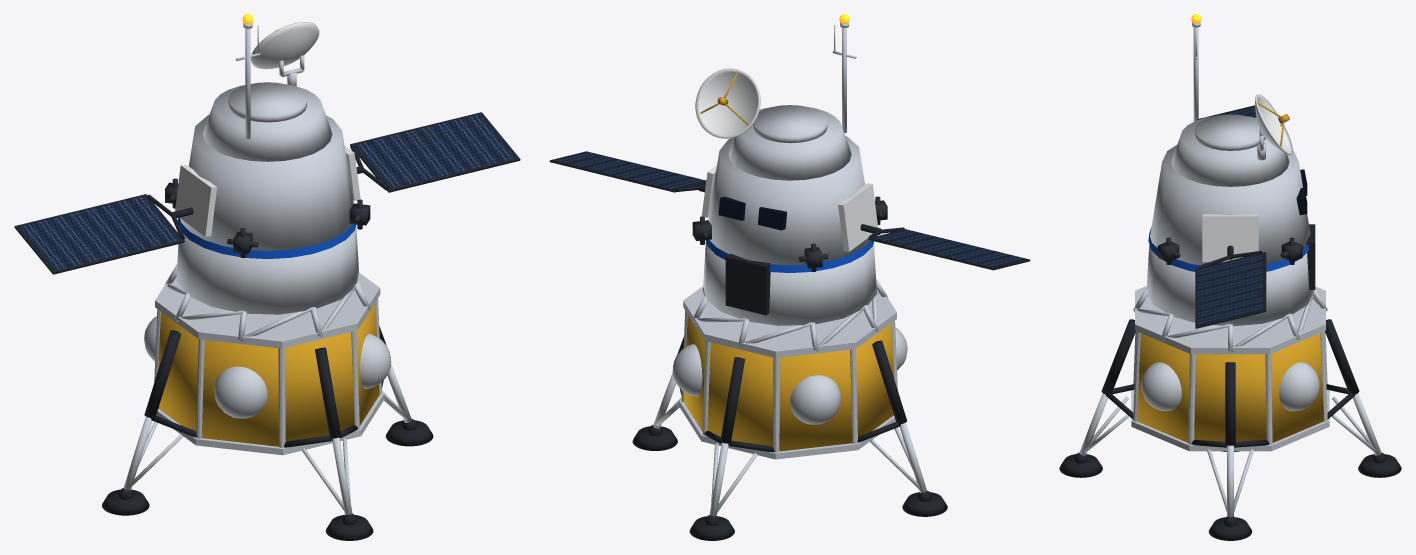
File: artemis_lander.glb
3 renders of one model, left to right at view 1: azimuth 30°, elevation 25°; view 2: azimuth 150°, elevation 25°; view 3: azimuth 270°, elevation 25°, orthographic. The views are drawn at different scales.
Parts seen in each view (by area): view 1: AscentModule_Body, DescentStage_KaptonMLI, DescentStage_Frame, SolarWing_Left, SolarWing_Right, DescentStage_PropTanks, LandingGear_CarbonStruts, LandingGear_TitaniumPistons, AscentModule_ThermalRadiators, CommsDish_Reflector, AscentModule_InterstageStruts, SolarWingFrame_Left (+7 smaller); view 2: AscentModule_Body, DescentStage_KaptonMLI, DescentStage_Frame, DescentStage_PropTanks, CommsDish_Reflector, LandingGear_CarbonStruts, LandingGear_TitaniumPistons, AscentModule_Hatch, AscentModule_ThermalRadiators, SolarWing_Left, SolarWing_Right, AscentModule_InterstageStruts (+9 smaller); view 3: AscentModule_Body, DescentStage_KaptonMLI, DescentStage_Frame, SolarWing_Right, LandingGear_CarbonStruts, DescentStage_PropTanks, LandingGear_TitaniumPistons, AscentModule_ThermalRadiators, AscentModule_InterstageStruts, CommsDish_Reflector, SolarWingFrame_Right, AscentModule_RCSQuads (+6 smaller).
Part boxes in pixels (bbox=[...]): AscentModule_Body: bbox=[176, 82, 358, 314]; DescentStage_KaptonMLI: bbox=[158, 303, 379, 446]; DescentStage_Frame: bbox=[154, 272, 384, 455]; SolarWing_Left: bbox=[18, 196, 181, 270]; SolarWing_Right: bbox=[354, 114, 516, 188]; DescentStage_PropTanks: bbox=[144, 316, 391, 418]; LandingGear_CarbonStruts: bbox=[144, 326, 390, 447]; LandingGear_TitaniumPistons: bbox=[123, 363, 411, 514]; AscentModule_ThermalRadiators: bbox=[175, 146, 360, 236]; CommsDish_Reflector: bbox=[251, 22, 319, 69]; AscentModule_InterstageStruts: bbox=[164, 264, 370, 341]; SolarWingFrame_Left: bbox=[14, 194, 193, 274]; AscentModule_Body: bbox=[703, 105, 876, 325]; DescentStage_KaptonMLI: bbox=[683, 314, 894, 451]; DescentStage_Frame: bbox=[679, 286, 897, 459]; DescentStage_PropTanks: bbox=[672, 327, 907, 424]; CommsDish_Reflector: bbox=[695, 68, 760, 138]; LandingGear_CarbonStruts: bbox=[673, 337, 906, 452]; LandingGear_TitaniumPistons: bbox=[653, 372, 926, 516]; AscentModule_Hatch: bbox=[725, 253, 770, 315]; AscentModule_ThermalRadiators: bbox=[701, 165, 877, 251]; SolarWing_Left: bbox=[873, 229, 1026, 267]; SolarWing_Right: bbox=[553, 151, 706, 189]; AscentModule_InterstageStruts: bbox=[692, 278, 887, 351]; AscentModule_Body: bbox=[1146, 114, 1313, 326]; DescentStage_KaptonMLI: bbox=[1137, 333, 1323, 442]; DescentStage_Frame: bbox=[1131, 286, 1329, 451]; SolarWing_Right: bbox=[1197, 253, 1263, 325]; LandingGear_CarbonStruts: bbox=[1101, 319, 1359, 447]; DescentStage_PropTanks: bbox=[1141, 362, 1319, 411]; LandingGear_TitaniumPistons: bbox=[1079, 393, 1381, 516]; AscentModule_ThermalRadiators: bbox=[1202, 214, 1258, 262]; AscentModule_InterstageStruts: bbox=[1133, 288, 1327, 352]; CommsDish_Reflector: bbox=[1255, 94, 1292, 154]; SolarWingFrame_Right: bbox=[1195, 245, 1266, 328]; AscentModule_RCSQuads: bbox=[1157, 237, 1303, 264].
Bounding box in the file's own units: 6.32 × 6.2 × 4.4.
9 materials, 1 textured.
